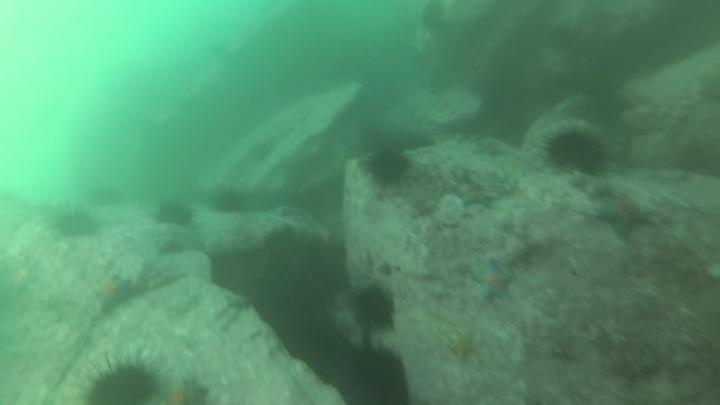echinus: (81, 353, 163, 404), (348, 344, 412, 405), (542, 125, 609, 177), (351, 282, 398, 333), (364, 145, 412, 188), (51, 207, 101, 243), (152, 198, 196, 230), (208, 186, 250, 219), (87, 182, 128, 211), (394, 129, 436, 154)
starfish: (592, 192, 657, 243), (469, 257, 517, 305), (91, 271, 139, 316), (3, 253, 44, 299), (493, 148, 541, 186), (155, 374, 212, 405), (448, 181, 496, 212), (444, 327, 483, 365), (472, 136, 513, 160), (220, 288, 254, 315)
